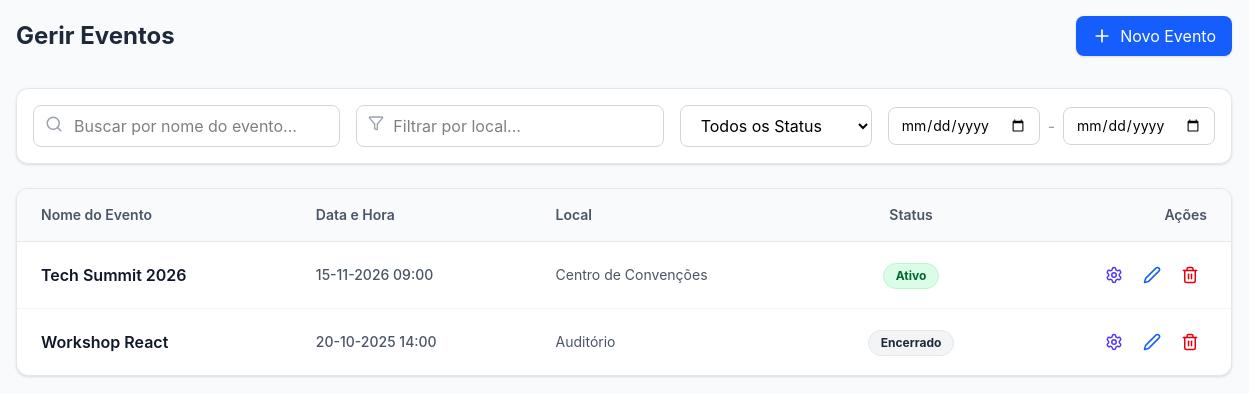
Componente Eventos › deve renderizar a lista de eventos e permitir pesquisa
Expected: the text "Tech Summit 2026" is shown, [17,242,292,308]
// Testa o filtro de busca
Type "Workshop" into the field with placeholder "Buscar por nome do evento...". click: [187, 126]
box: [33,105,340,147]
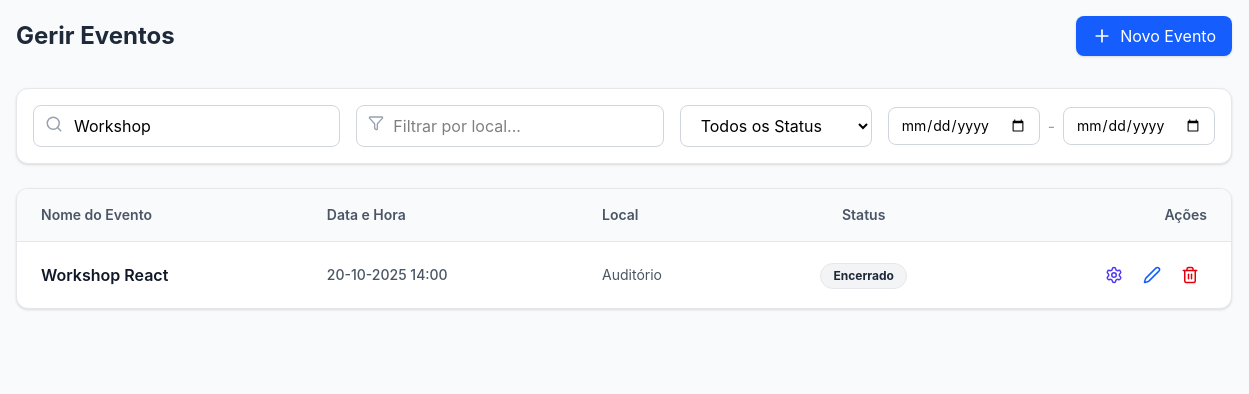
Expected: the text "Workshop React" is shown, [17,242,303,308]
Result: the text "Tech Summit 2026" is gone
